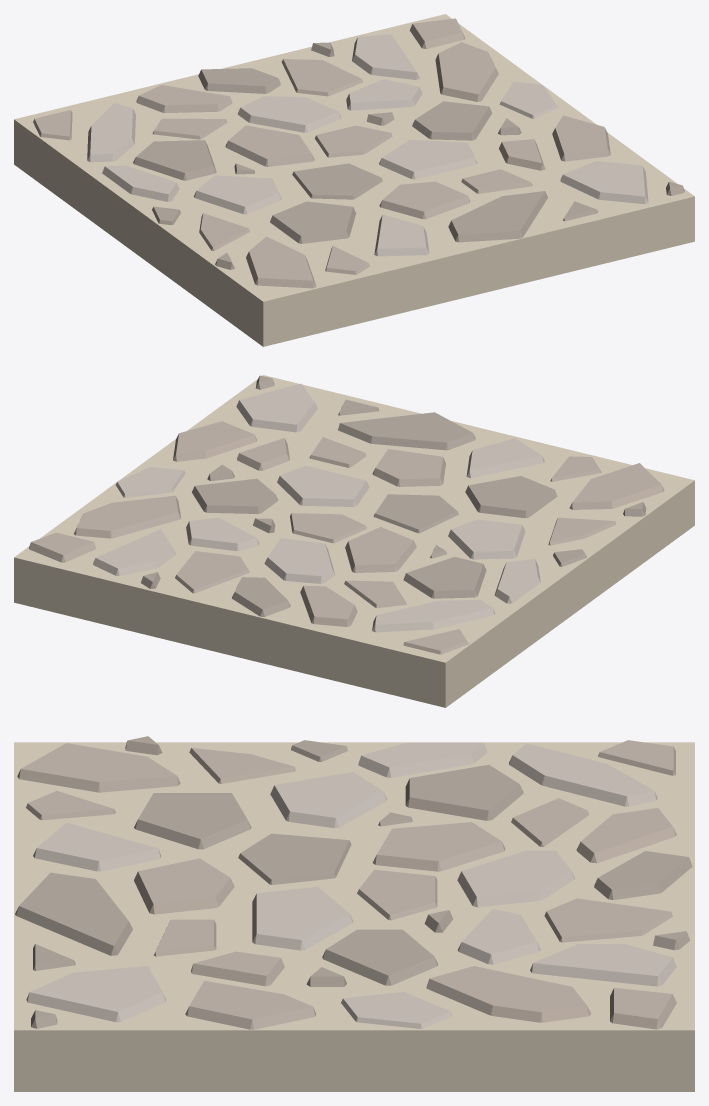
File: Cobblestone_Floor_1.glb
3 views of the same model, one above another, from view 1: azimuth 30°, elevation 25°; view 2: azimuth 150°, elevation 25°; view 3: azimuth 270°, elevation 25° (orthographic). The views are drawn at different scales.
Parts seen in each view (by area): view 1: object1; view 2: object1; view 3: object1.
Part boxes in pixels (bbox=[...]): object1: bbox=[14, 14, 694, 346]; object1: bbox=[14, 375, 694, 707]; object1: bbox=[14, 736, 694, 1091].
Size of the model in its own units: 2 by 0.2281 by 2.
